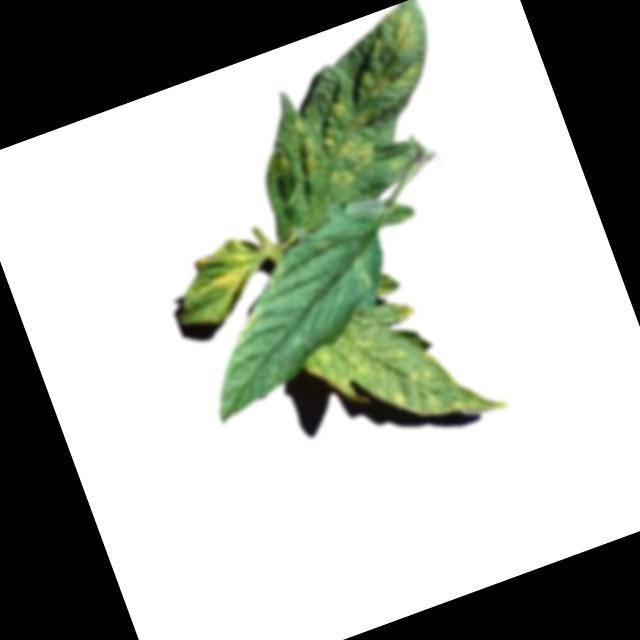Leaf_Mold: (295, 274, 512, 467), (266, 1, 469, 196), (191, 230, 276, 321), (345, 251, 382, 294)
